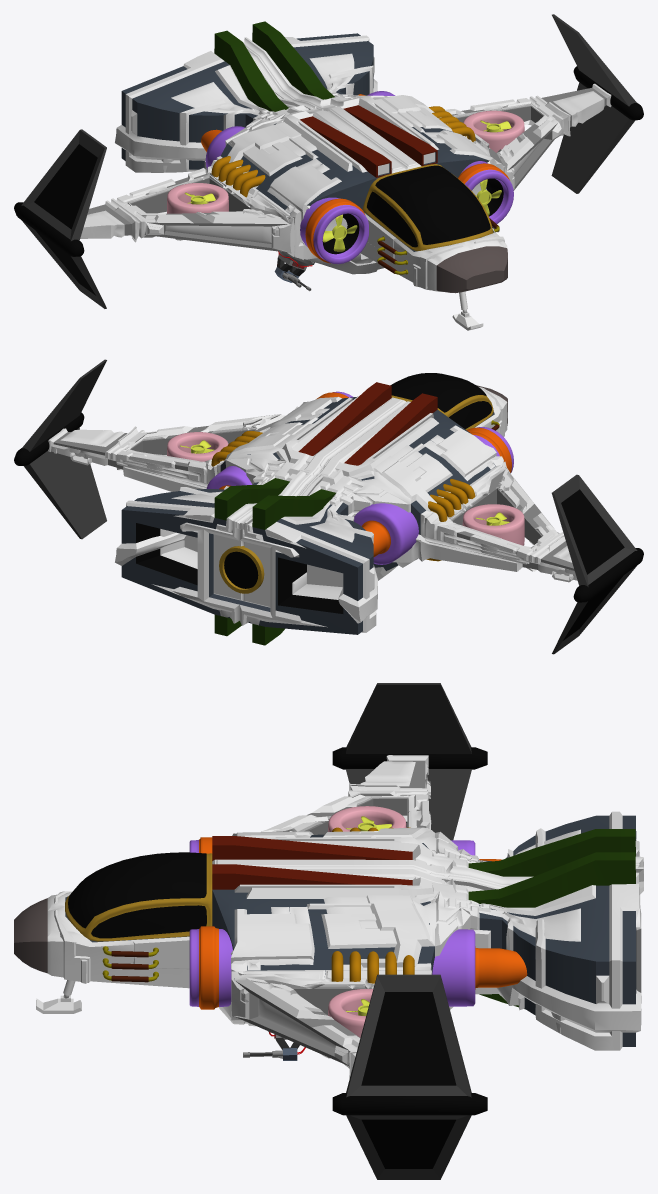
The model's file is SF-47_Viper_Model.fbx.
3 views of the same model, one above another, from view 1: azimuth 30°, elevation 25°; view 2: azimuth 150°, elevation 25°; view 3: azimuth 270°, elevation 25° (orthographic). The views are drawn at different scales.
Visible parts, largest first — view 1: Ship Hull, Hull Details 2, Hull Details, Hull Details 3, Cockpit_2, Engine Intake, Combat Flaps.002, Combat Flaps.001, Combat Flaps, Combat Flap Hinges, Wing Pipes.001, Precision Engines.001 (+6 smaller); view 2: Ship Hull, Hull Details 2, Hull Details, Hull Details 3, Combat Flaps.002, Engine Intake, Combat Flaps.001, Cockpit_2, Combat Flaps, Combat Flap Hinges, Wing Pipes.001, Rear Port Hole (+3 smaller); view 3: Ship Hull, Hull Details 2, Hull Details, Combat Flaps, Hull Details 3, Cockpit_2, Engine Intake, Combat Flaps.002, Combat Flaps.001, Combat Flap Hinges, Combat Flaps.003, Wing Pipes.001 (+4 smaller).
Boxes of the visible parts, <box> form: Ship Hull: <box>87,21,606,293</box>; Hull Details 2: <box>105,35,611,290</box>; Hull Details: <box>114,37,570,286</box>; Hull Details 3: <box>80,53,604,291</box>; Cockpit_2: <box>362,164,493,251</box>; Engine Intake: <box>201,91,513,264</box>; Combat Flaps.002: <box>21,129,106,241</box>; Combat Flaps.001: <box>551,82,635,193</box>; Combat Flaps: <box>552,14,636,106</box>; Combat Flap Hinges: <box>14,66,643,256</box>; Wing Pipes.001: <box>211,106,475,197</box>; Precision Engines.001: <box>167,183,228,213</box>; Ship Hull: <box>53,382,574,645</box>; Hull Details 2: <box>48,387,564,632</box>; Hull Details: <box>70,395,573,627</box>; Hull Details 3: <box>51,389,577,625</box>; Combat Flaps.002: <box>551,474,637,586</box>; Engine Intake: <box>206,391,513,564</box>; Combat Flaps.001: <box>24,427,106,539</box>; Cockpit_2: <box>390,373,493,430</box>; Combat Flaps: <box>21,359,106,451</box>; Combat Flap Hinges: <box>14,412,643,602</box>; Wing Pipes.001: <box>211,431,475,521</box>; Rear Port Hole: <box>219,546,264,593</box>; Ship Hull: <box>14,760,636,1065</box>; Hull Details 2: <box>54,755,639,1068</box>; Hull Details: <box>81,780,643,1078</box>; Combat Flaps: <box>346,974,471,1097</box>; Hull Details 3: <box>47,761,580,1049</box>; Cockpit_2: <box>65,852,212,941</box>; Engine Intake: <box>189,837,527,1009</box>; Combat Flaps.002: <box>346,683,471,753</box>; Combat Flaps.001: <box>346,1115,471,1179</box>; Combat Flap Hinges: <box>332,747,487,1115</box>; Combat Flaps.003: <box>346,769,471,840</box>; Wing Pipes.001: <box>331,827,414,983</box>.
Bounding box in the file's own units: 1254 × 335 × 940.
